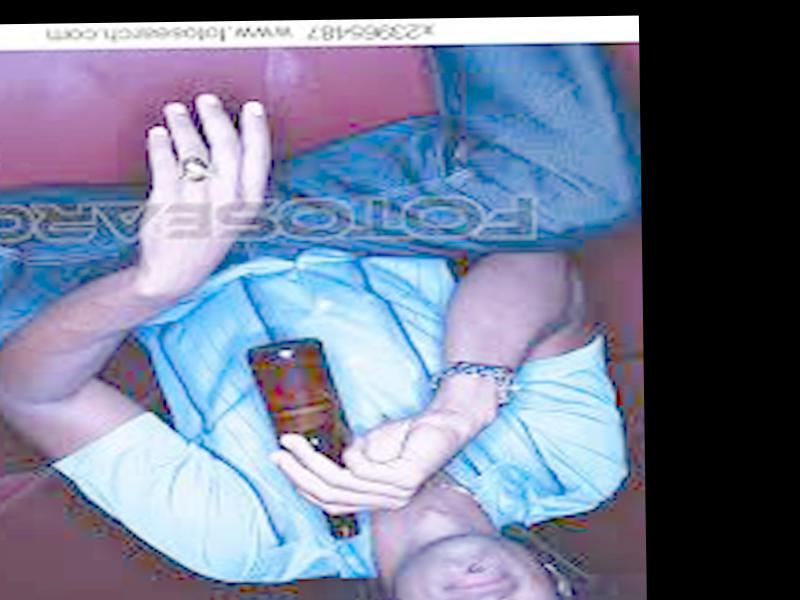Beer: (242, 338, 361, 541)
